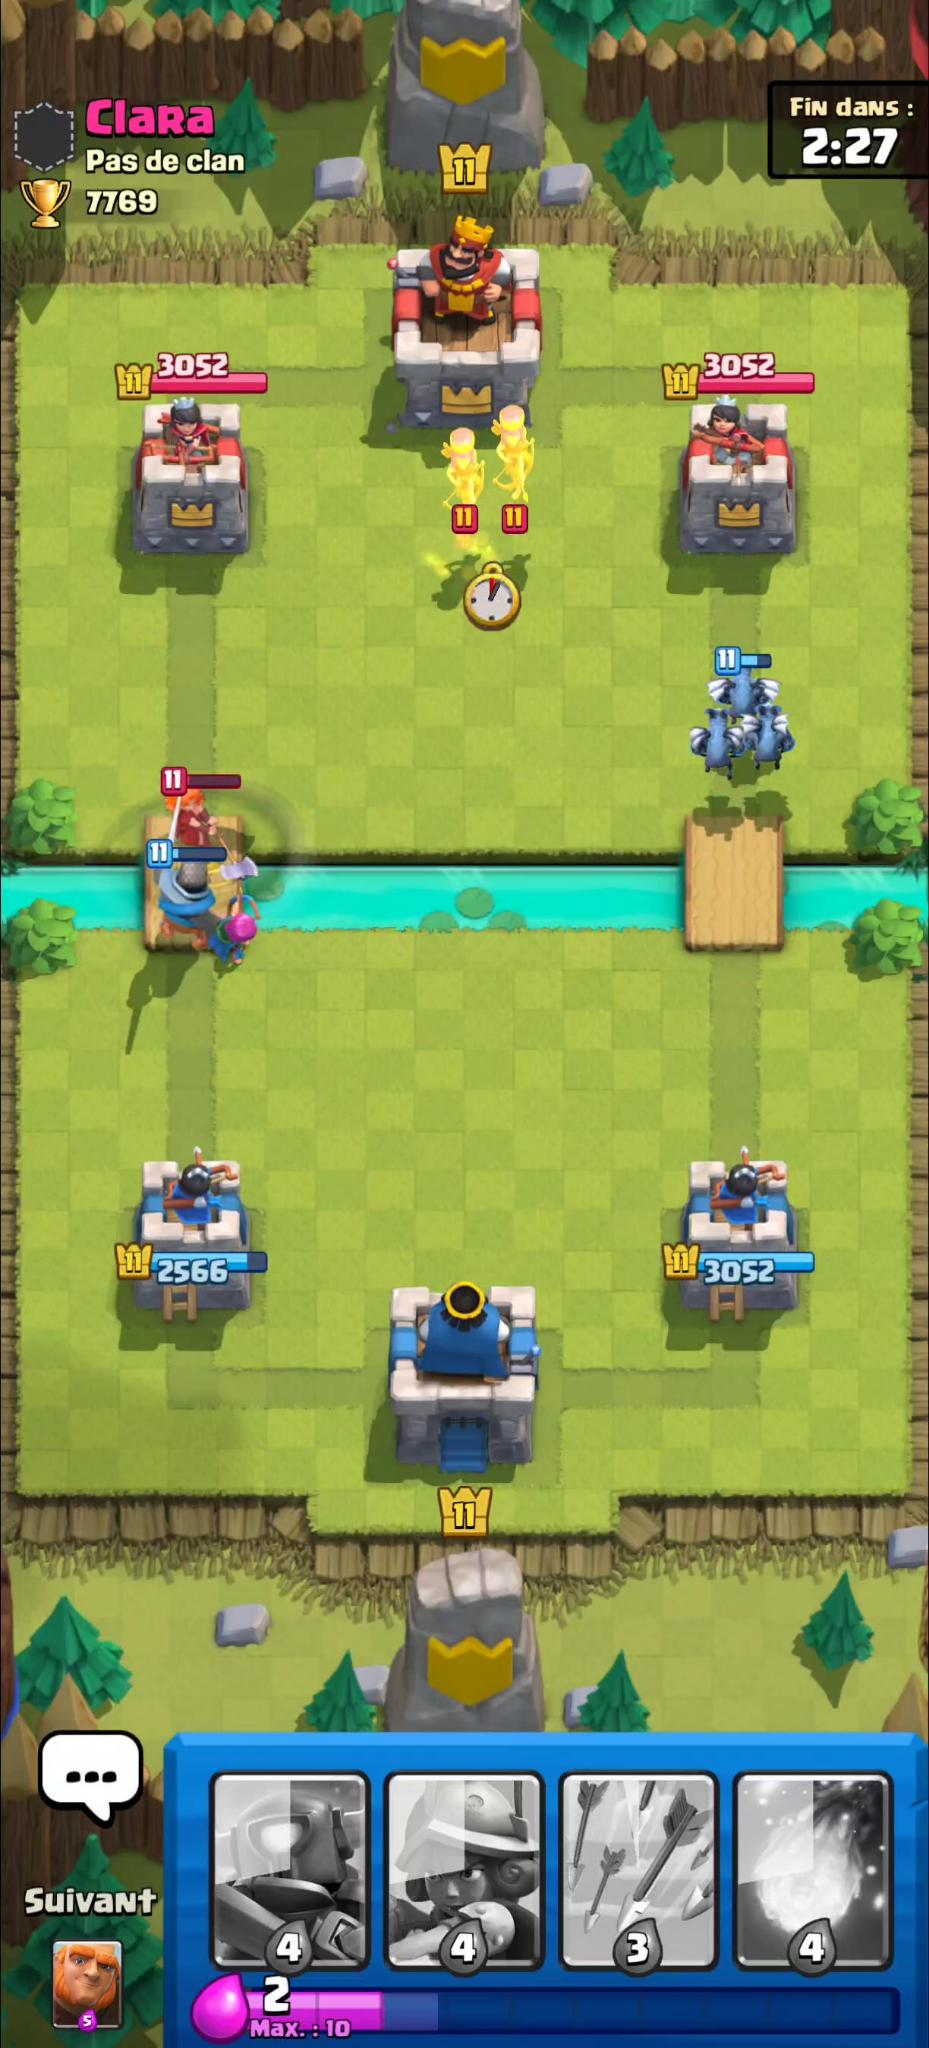archere: (493, 402, 541, 504), (438, 423, 490, 517), (216, 878, 260, 972)
chevalier: (152, 865, 220, 948)
gargouille: (687, 705, 745, 784), (707, 665, 781, 714), (742, 705, 796, 773)
valkyrie: (165, 792, 263, 880)
